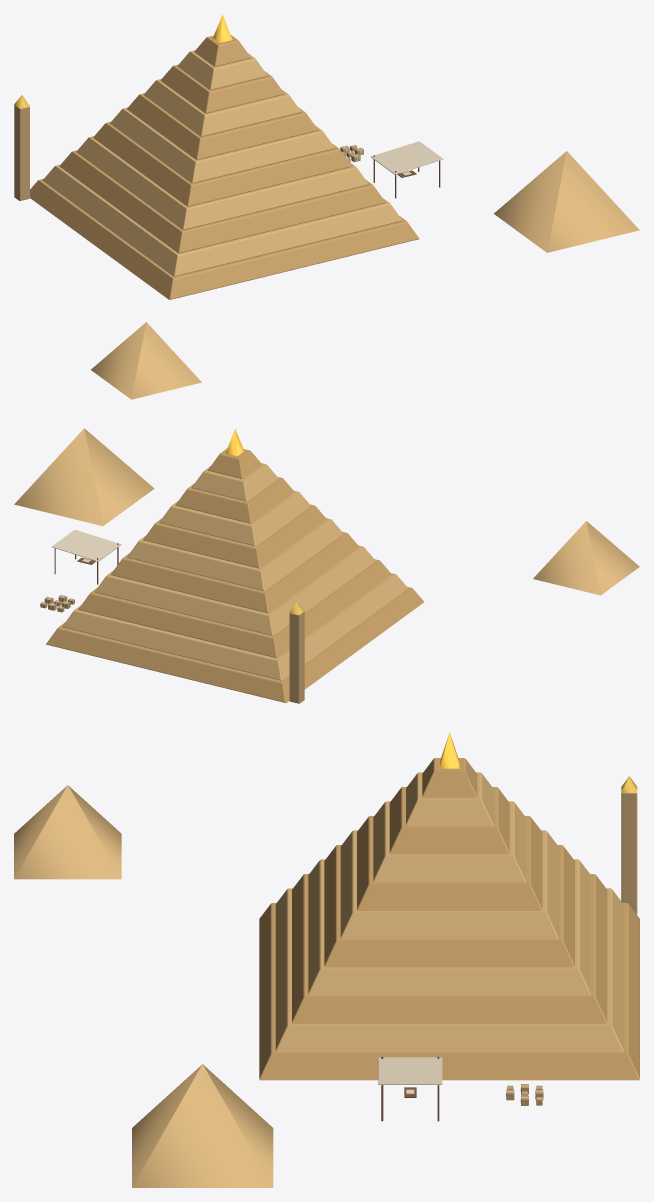
3 views of the same model, one above another, from view 1: azimuth 30°, elevation 25°; view 2: azimuth 150°, elevation 25°; view 3: azimuth 270°, elevation 25° (orthographic). The views are drawn at different scales.
Parts seen in each view (by area): view 1: part_0, part_0_16; view 2: part_0, part_0_16; view 3: part_0, part_0_16.
Boxes of the visible parts, x1,y1,x2,y2 form: part_0: (14, 14, 639, 399); part_0_16: (340, 141, 443, 198); part_0: (14, 428, 639, 703); part_0_16: (40, 529, 121, 612); part_0: (14, 732, 639, 1187); part_0_16: (378, 1056, 543, 1121).
Bounding box in the file's own units: 75.1 × 26.3 × 55.75.
